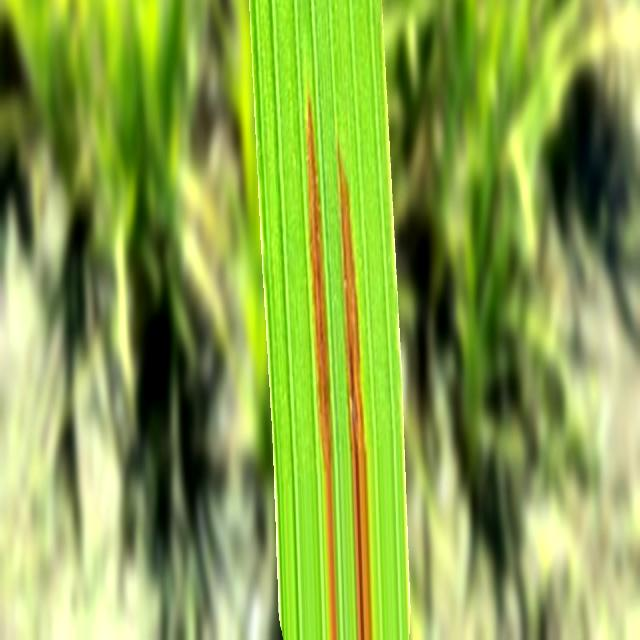NBS: (338, 150, 373, 638), (306, 98, 337, 638)
